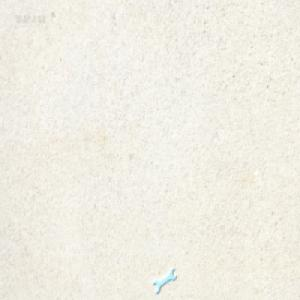Wrench: (153, 266, 178, 293)
